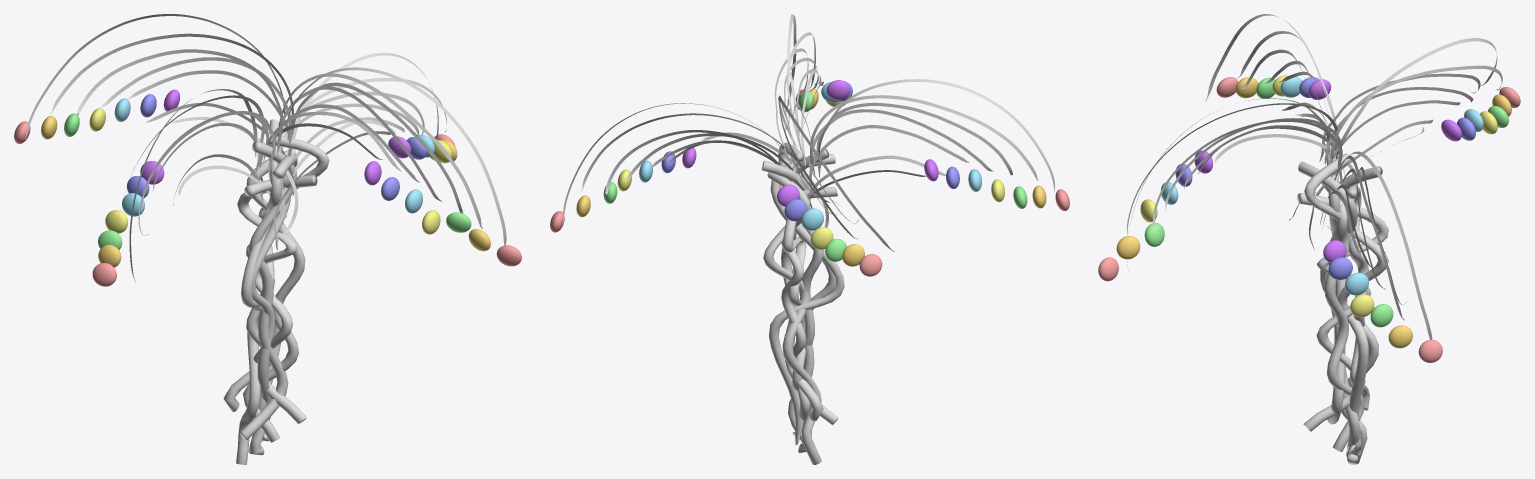
File: Palm_tree_2023-01-14_16.31.41.gltf
The picture shows the model from 3 angles, left to right: view 1: azimuth 30°, elevation 25°; view 2: azimuth 150°, elevation 25°; view 3: azimuth 270°, elevation 25°; orthographic projection. The views are drawn at different scales.
Parts seen in each view (by area): view 1: TubeBrushStroke 57, TubeBrushStroke 56, TubeBrushStroke 58, TubeBrushStroke 59, TubeBrushStroke 54, TubeBrushStroke 60, TubeBrushStroke 55, MarkerStroke 29, MarkerStroke 24, MarkerStroke 38, MarkerStroke 19, MarkerStroke 27 (+10 smaller); view 2: TubeBrushStroke 54, TubeBrushStroke 60, TubeBrushStroke 55, TubeBrushStroke 57, TubeBrushStroke 59, TubeBrushStroke 58, MarkerStroke 46, MarkerStroke 47, TubeBrushStroke 56, MarkerStroke 45, MarkerStroke 44, MarkerStroke 27 (+5 smaller); view 3: TubeBrushStroke 56, TubeBrushStroke 60, TubeBrushStroke 58, TubeBrushStroke 54, TubeBrushStroke 59, TubeBrushStroke 55, TubeBrushStroke 57, MarkerStroke 27, MarkerStroke 8, MarkerStroke 39, MarkerStroke 19, MarkerStroke 47 (+15 smaller).
Boxes of the visible parts, <box> form: TubeBrushStroke 57: <box>239,141,296,439</box>; TubeBrushStroke 56: <box>243,133,329,442</box>; TubeBrushStroke 58: <box>237,175,317,424</box>; TubeBrushStroke 59: <box>244,180,290,455</box>; TubeBrushStroke 54: <box>236,119,281,464</box>; TubeBrushStroke 60: <box>241,154,297,441</box>; TubeBrushStroke 55: <box>223,149,296,412</box>; MarkerStroke 29: <box>287,67,506,245</box>; MarkerStroke 24: <box>76,49,283,155</box>; MarkerStroke 38: <box>278,73,482,228</box>; MarkerStroke 19: <box>50,33,293,145</box>; MarkerStroke 27: <box>25,14,285,139</box>; TubeBrushStroke 54: <box>761,160,821,464</box>; TubeBrushStroke 60: <box>769,153,844,445</box>; TubeBrushStroke 55: <box>767,172,823,420</box>; TubeBrushStroke 57: <box>792,149,838,425</box>; TubeBrushStroke 59: <box>788,187,837,453</box>; TubeBrushStroke 58: <box>782,173,806,390</box>; MarkerStroke 46: <box>810,95,1038,180</box>; MarkerStroke 47: <box>818,79,1054,192</box>; TubeBrushStroke 56: <box>778,142,810,424</box>; MarkerStroke 45: <box>816,102,1012,177</box>; MarkerStroke 44: <box>809,109,993,171</box>; MarkerStroke 27: <box>778,95,894,252</box>; TubeBrushStroke 56: <box>1304,153,1364,451</box>; TubeBrushStroke 60: <box>1298,161,1368,455</box>; TubeBrushStroke 58: <box>1297,193,1388,431</box>; TubeBrushStroke 54: <box>1328,166,1388,464</box>; TubeBrushStroke 59: <box>1322,184,1359,464</box>; TubeBrushStroke 55: <box>1345,184,1369,410</box>; TubeBrushStroke 57: <box>1325,142,1346,424</box>; MarkerStroke 27: <box>1336,38,1497,157</box>; MarkerStroke 8: <box>1334,151,1432,339</box>; MarkerStroke 39: <box>1153,119,1342,231</box>; MarkerStroke 19: <box>1330,65,1502,161</box>; MarkerStroke 47: <box>1205,14,1336,125</box>.
Bounding box in the file's own units: 2.59 × 2.27 × 2.12.
